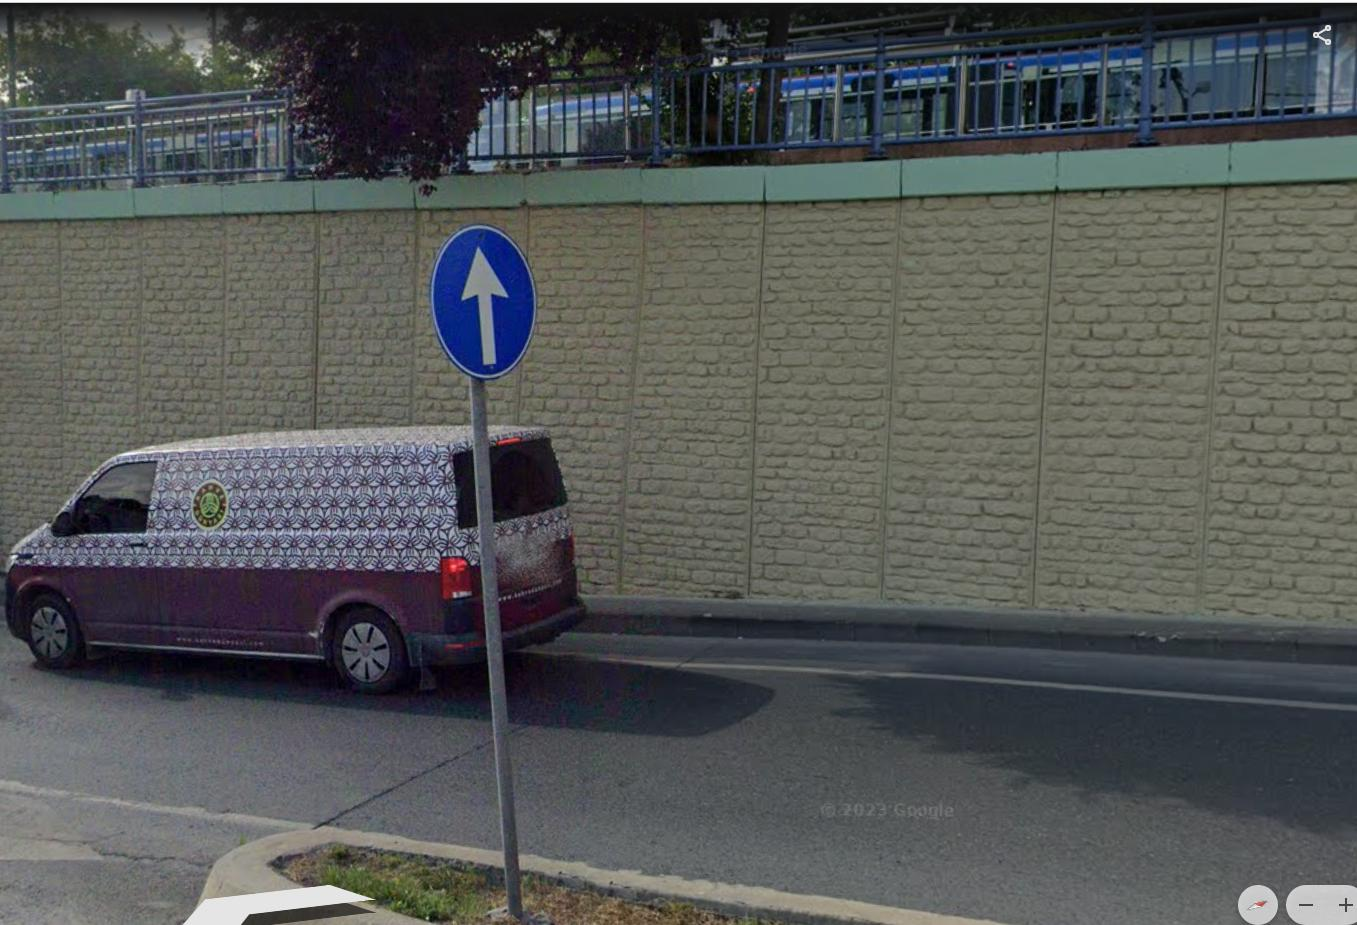forward: (440, 228, 530, 376)
